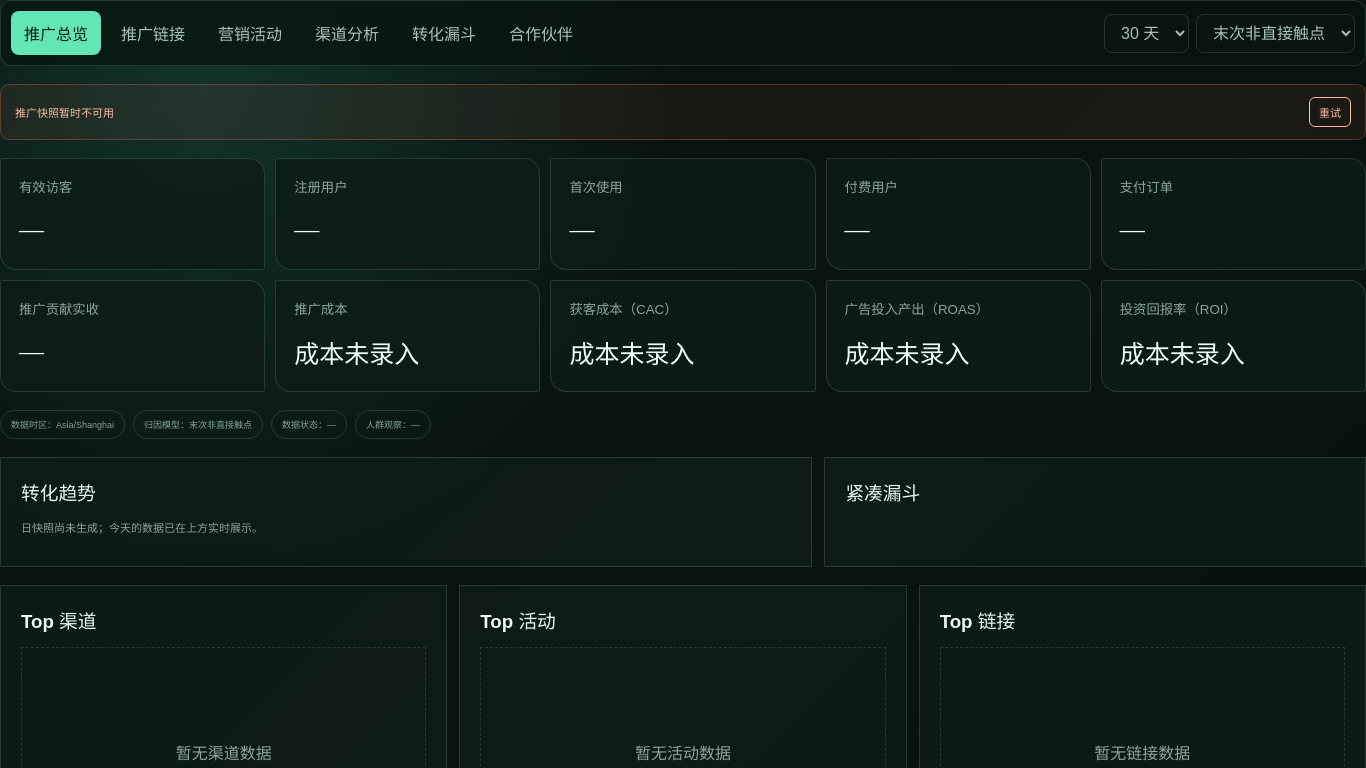
promotion center shell › offers a keyboard-focusable retry after a report error
This screenshot has width=1366, height=768.
Click the button "重试".
click(1330, 112)  # box x1=1309 y1=97 x2=1351 y2=127
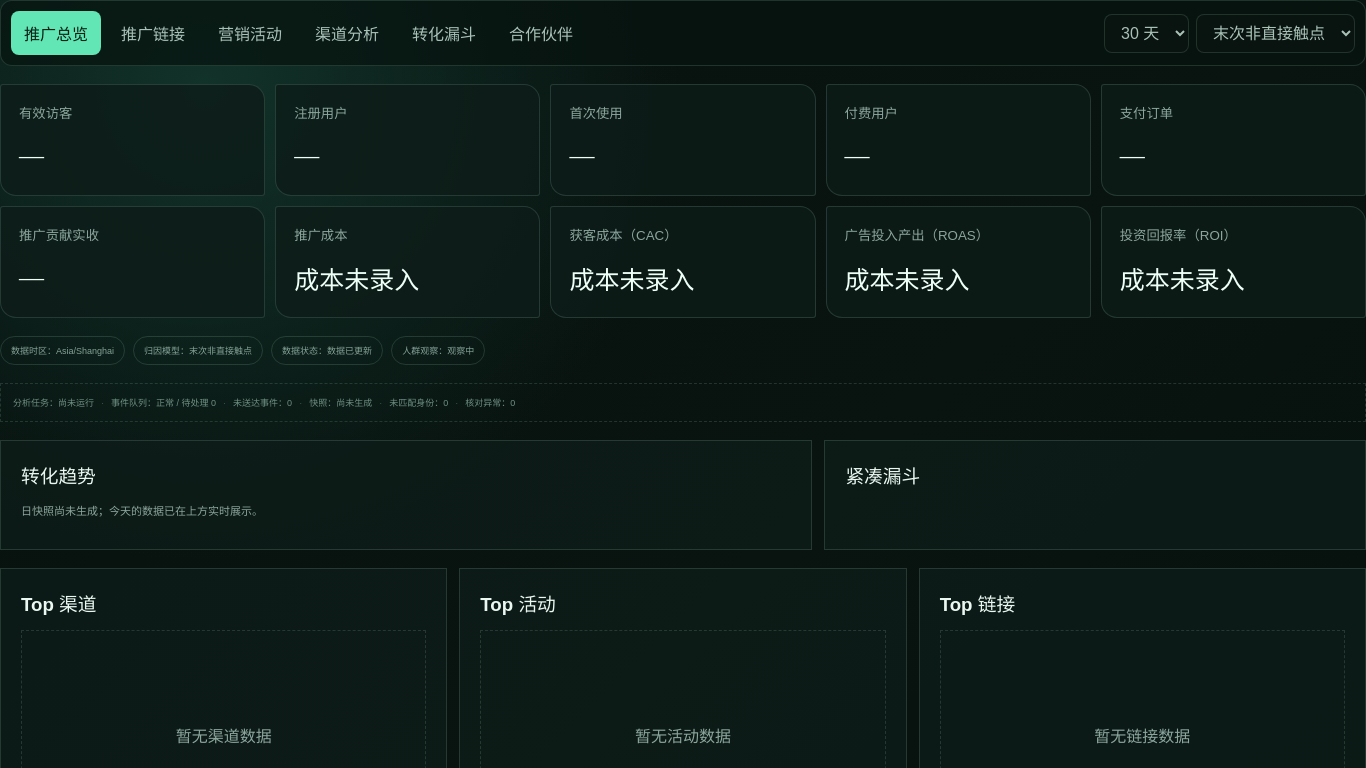
Now the button "重试" is gone
